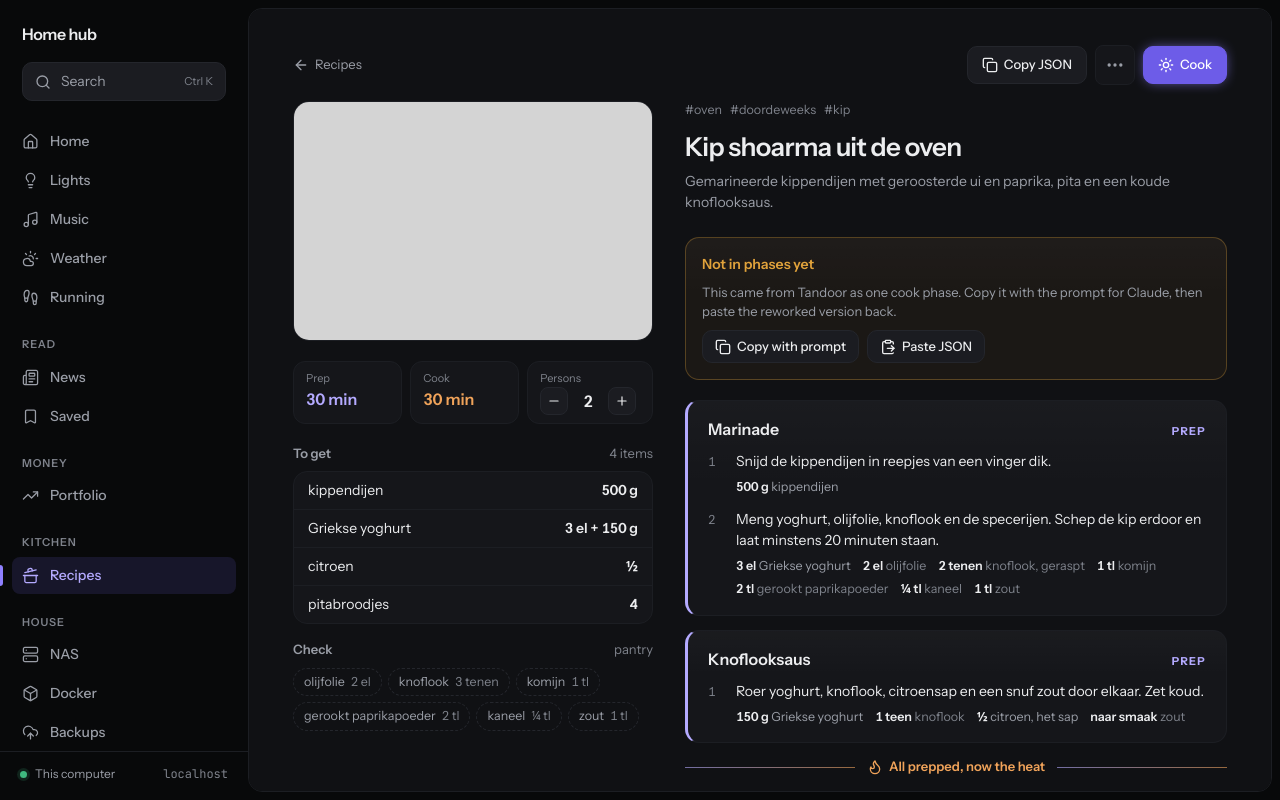
Test: RecipePage › copies the recipe as JSON, or with the prompt while it needs review
Click the button "Copy JSON".
click(1027, 65)  # box top-left (967, 46), bottom-right (1087, 84)
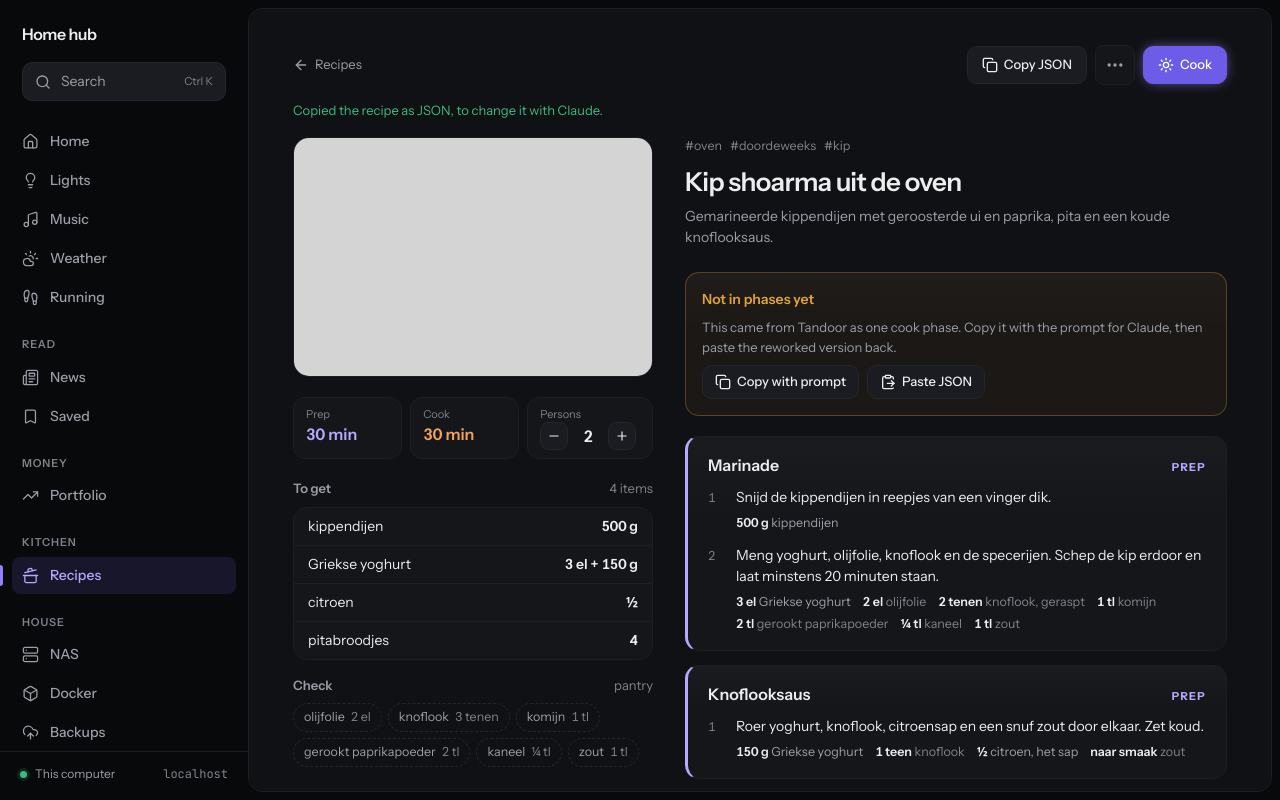
Expected: the text "Not in phases yet" is shown, top-left (702, 290), bottom-right (814, 308)
Expected: the text "Copied the recipe as JSON, to change it with Claude." is shown, top-left (293, 102), bottom-right (603, 118)
Click the button "Copy with prompt".
click(781, 382)  # box top-left (702, 365), bottom-right (859, 399)
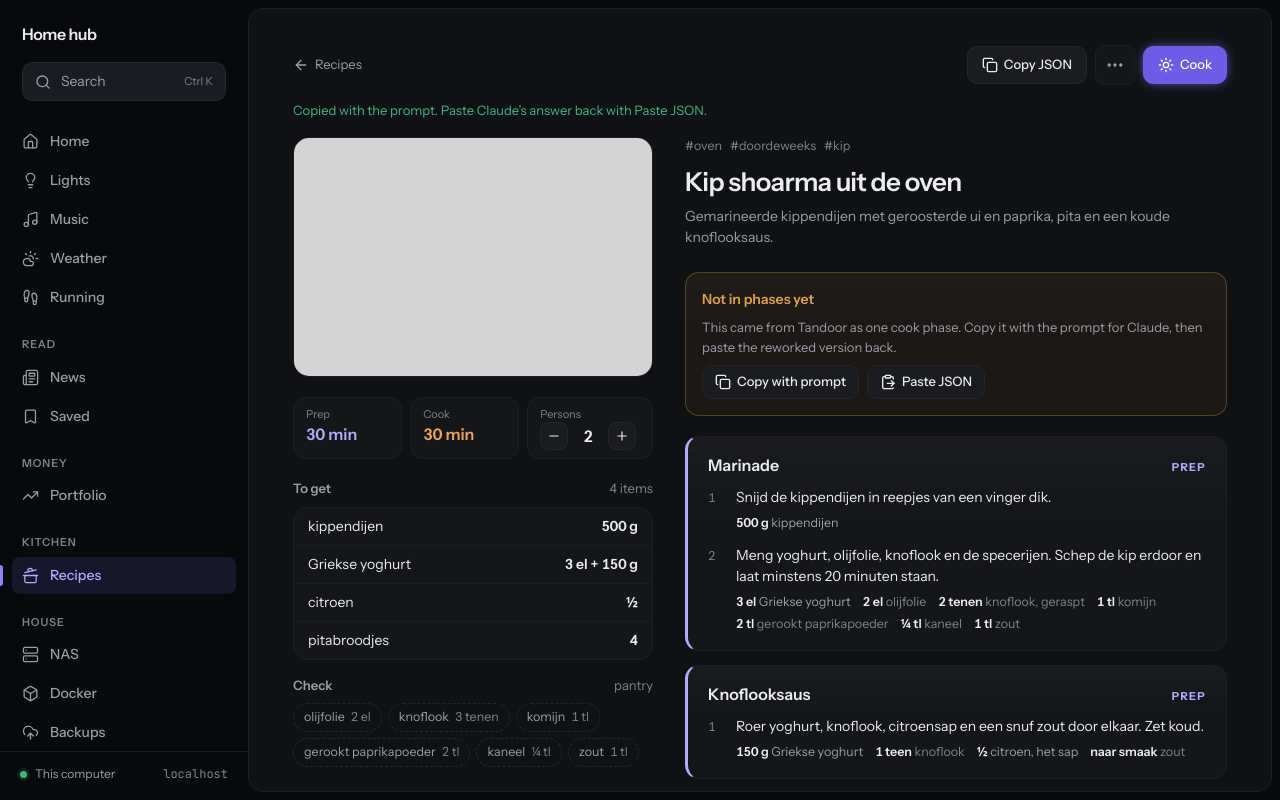
Expected: the text "Copied with the prompt. Paste Claude’s answer back with Paste JSON." is shown, top-left (293, 102), bottom-right (707, 118)
